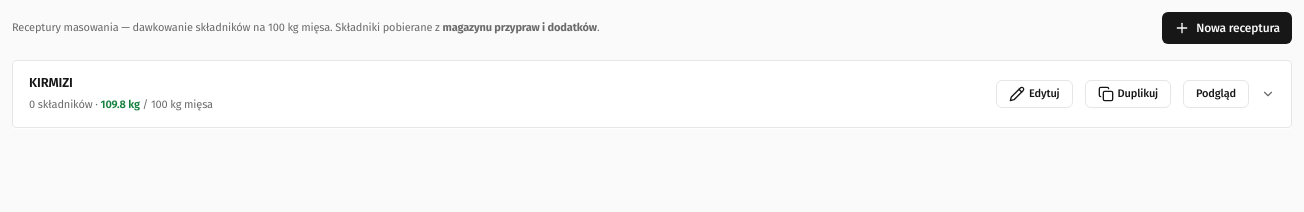
Test: RecipesPage — duplikowanie › kopia pojawia się na liście bez przeładowania strony
Expected: the text "KIRMIZI" is shown, [29,75,73,90]
Click the button "Duplikuj": click(1128, 94) [1085,80,1171,108]
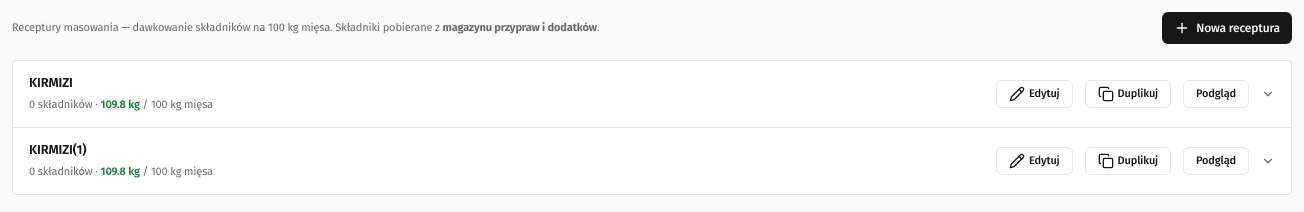
Result: the text "KIRMIZI(1)" is shown at [29,142,86,157]
